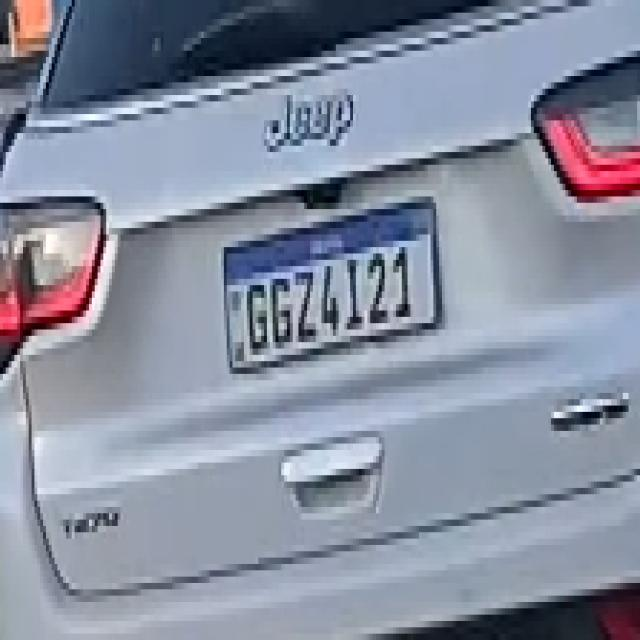Placa_mercosul_carro: (222, 194, 443, 379)
